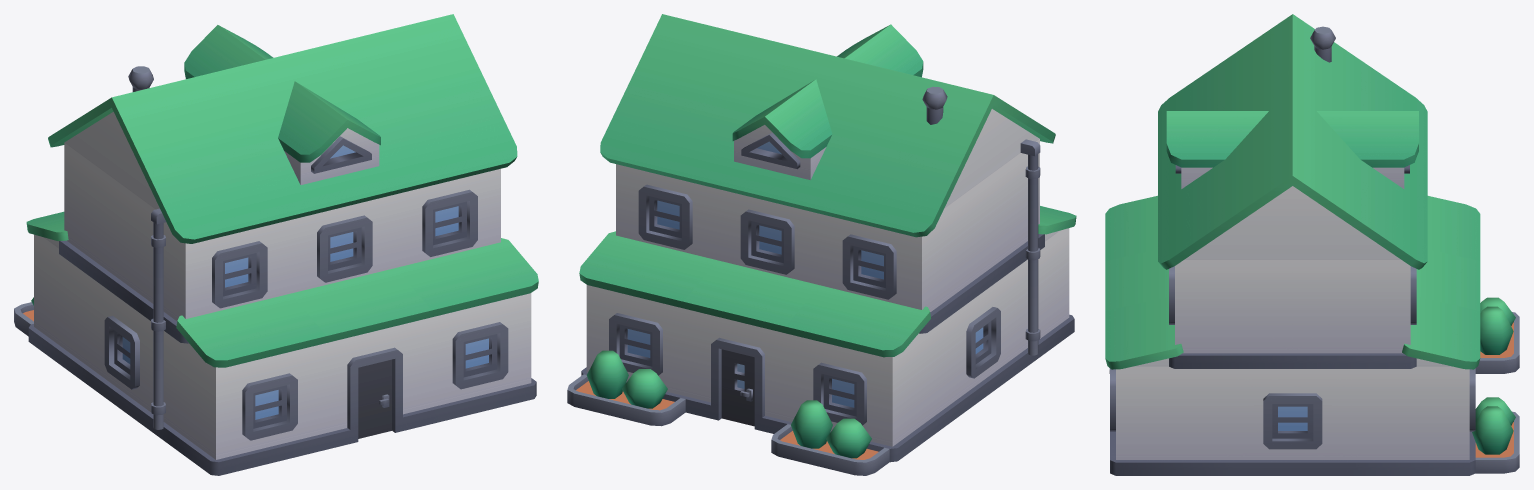
The model's file is building-type-t.draco.glb.
3 views of the same model, side by side, from view 1: azimuth 30°, elevation 25°; view 2: azimuth 150°, elevation 25°; view 3: azimuth 270°, elevation 25° (orthographic). The views are drawn at different scales.
Visible parts, largest first — view 1: building-type-t; view 2: building-type-t; view 3: building-type-t.
Boxes of the visible parts, x1=… form: building-type-t: x1=14, y1=14, x2=538, y2=475; building-type-t: x1=567, y1=14, x2=1076, y2=475; building-type-t: x1=1105, y1=14, x2=1519, y2=475.
Bounding box in the file's own units: 1.31 × 1.16 × 1.41.
Materials: 1 (1 with a texture image).
